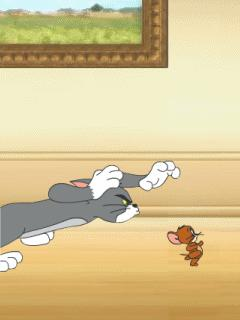jerry: (166, 224, 205, 268)
